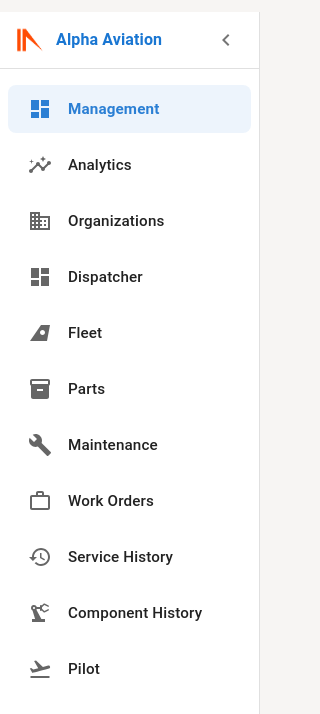
Test case: NavigationDrawer Component › Sidebar Toggle › should toggle sidebar visibility
Expected: the heading "Alpha Aviation" is shown, left=56, top=27, right=162, bottom=53
Click to toggle
Click the button named "Toggle sidebar" at [226, 40], box left=209, top=23, right=243, bottom=57
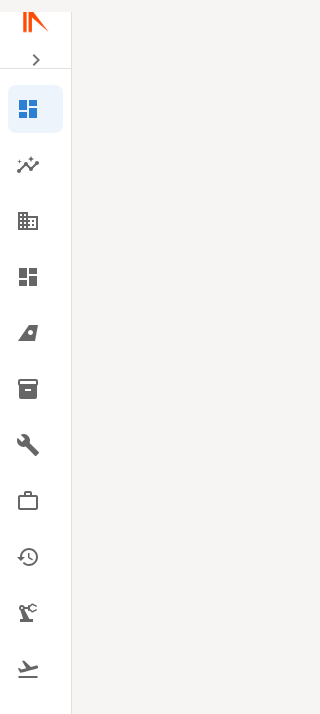
Expected: the heading "Alpha Aviation" is gone
